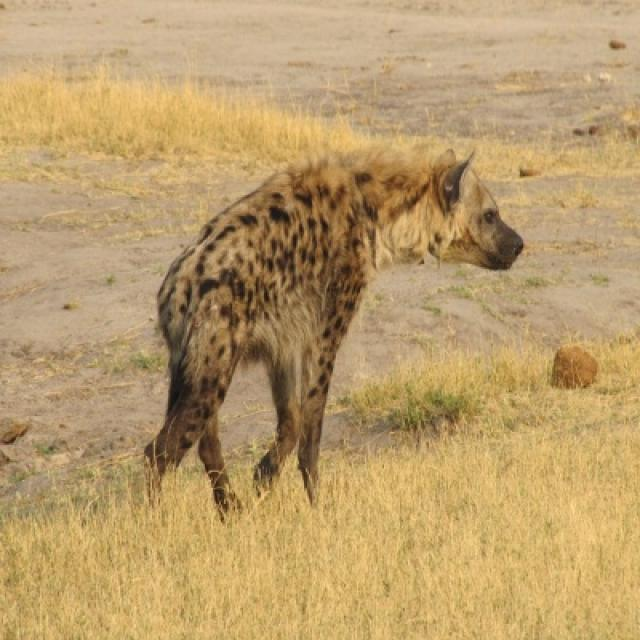hyena: (142, 141, 526, 520)
